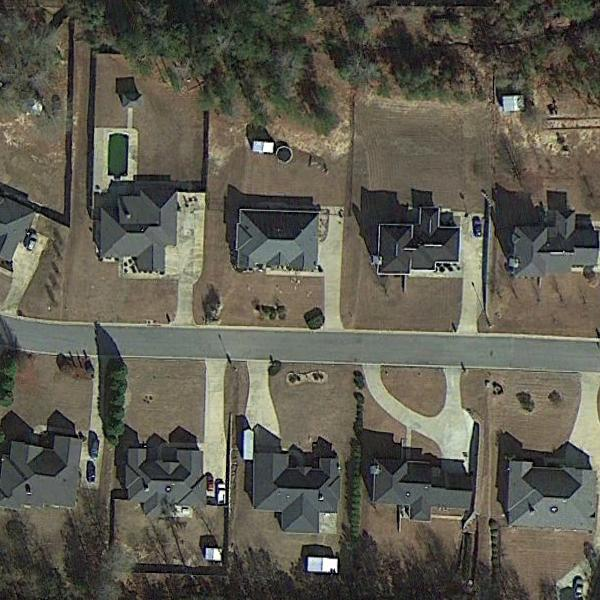Buildings: (497, 454, 600, 538), (245, 438, 334, 524), (368, 455, 469, 530), (102, 183, 175, 273), (505, 213, 600, 279), (238, 200, 321, 271), (373, 213, 455, 283), (115, 441, 199, 505), (8, 435, 77, 509), (0, 189, 32, 261)
